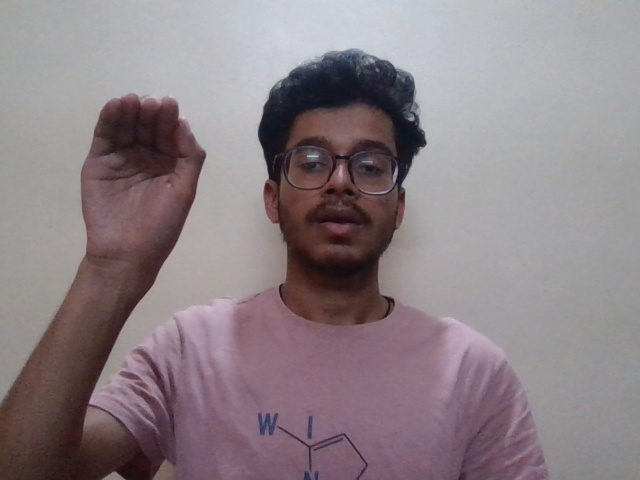sound: (72, 83, 229, 277)
